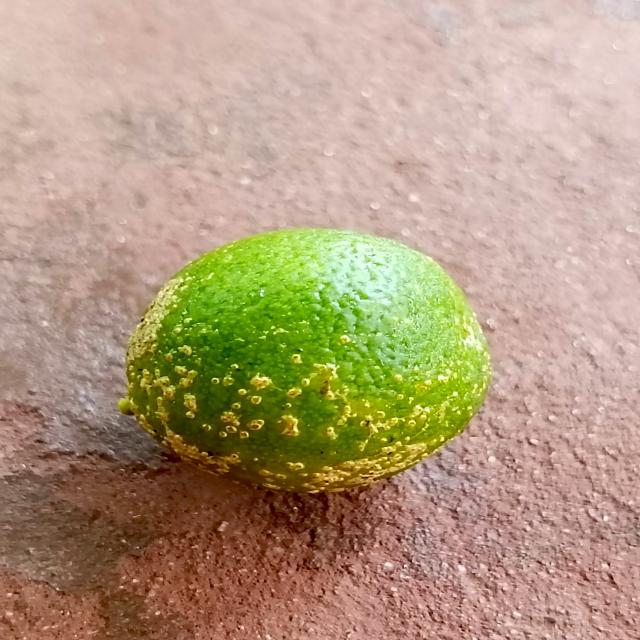scab: (98, 215, 504, 500)
